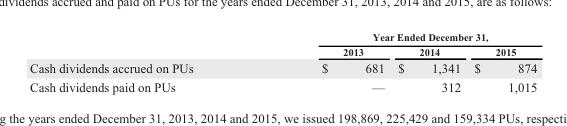table: (29, 29, 536, 94)
table column: (29, 29, 256, 94), (256, 29, 390, 94), (390, 29, 466, 94), (466, 29, 536, 94)
table column header: (29, 29, 536, 58)
table row: (29, 58, 536, 76), (29, 76, 536, 94), (29, 43, 536, 58), (29, 29, 536, 43)
table spanning cell: (256, 29, 536, 43)
